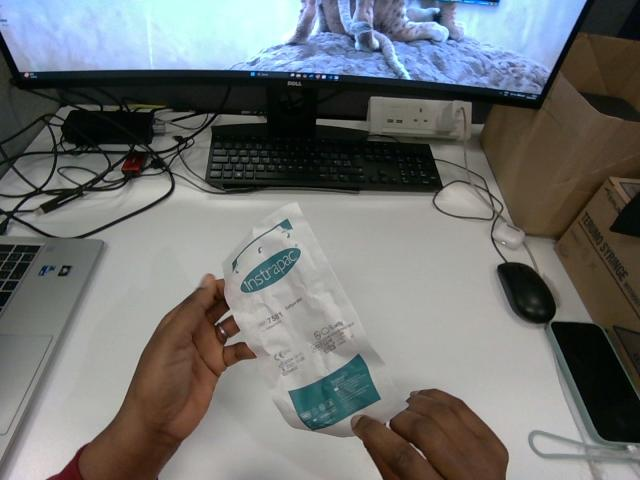gallipot: (223, 203, 405, 436)
